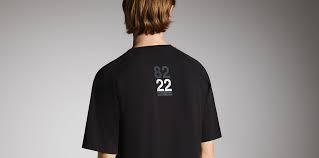Tshirt: (81, 40, 224, 158)
